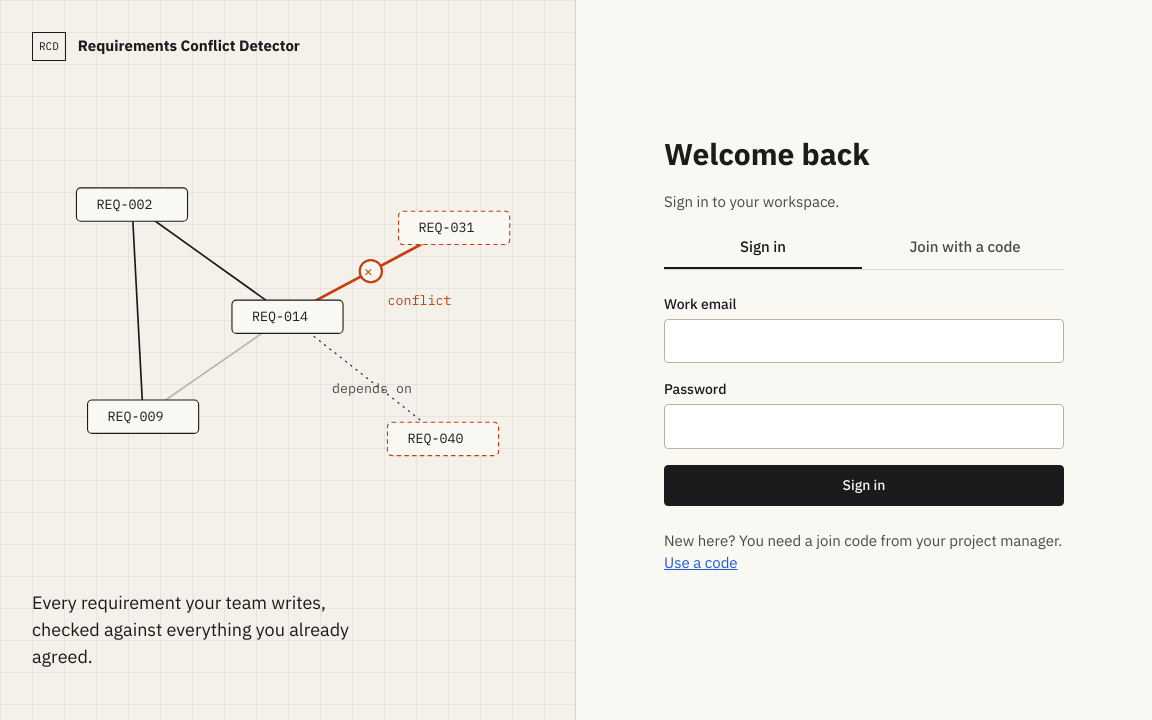
Test case: LoginPage › shows the server's generic message on bad credentials
The width and height of the screenshot is (1152, 720).
Type "x@y.z" into the field labelled "Work email" at point(864, 341), box 664,318 -> 1064,363
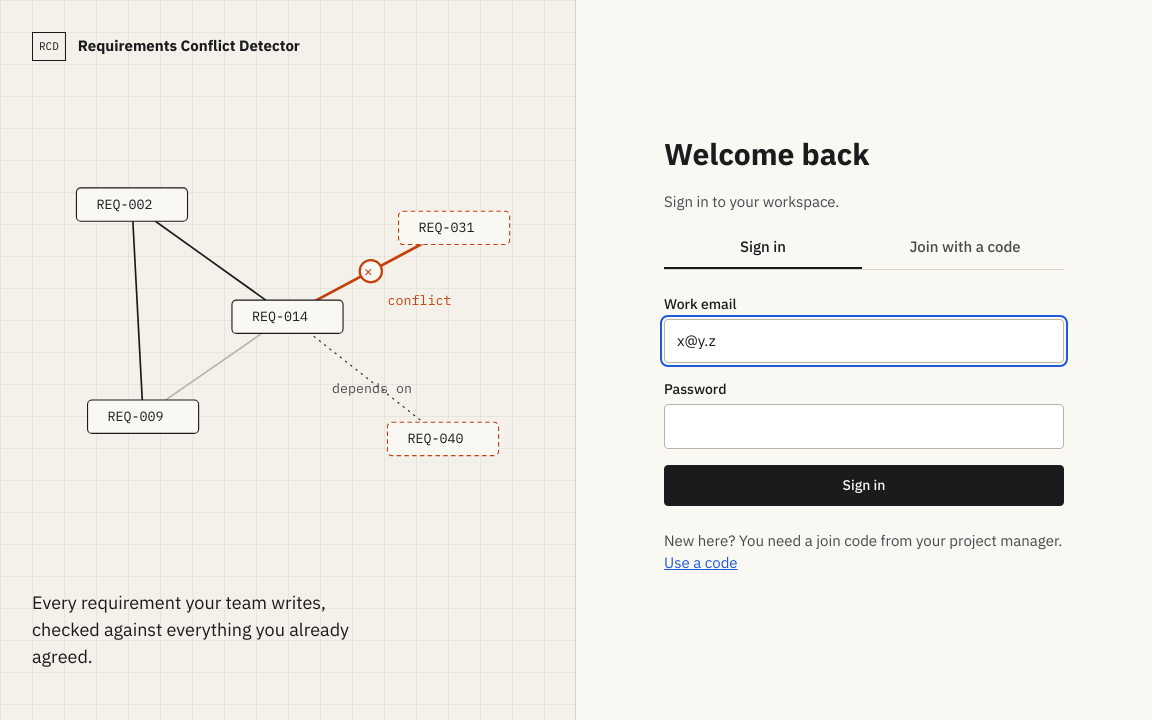
Type "nope" into the password field labelled "Password" at point(864, 426), box 664,404 -> 1064,448
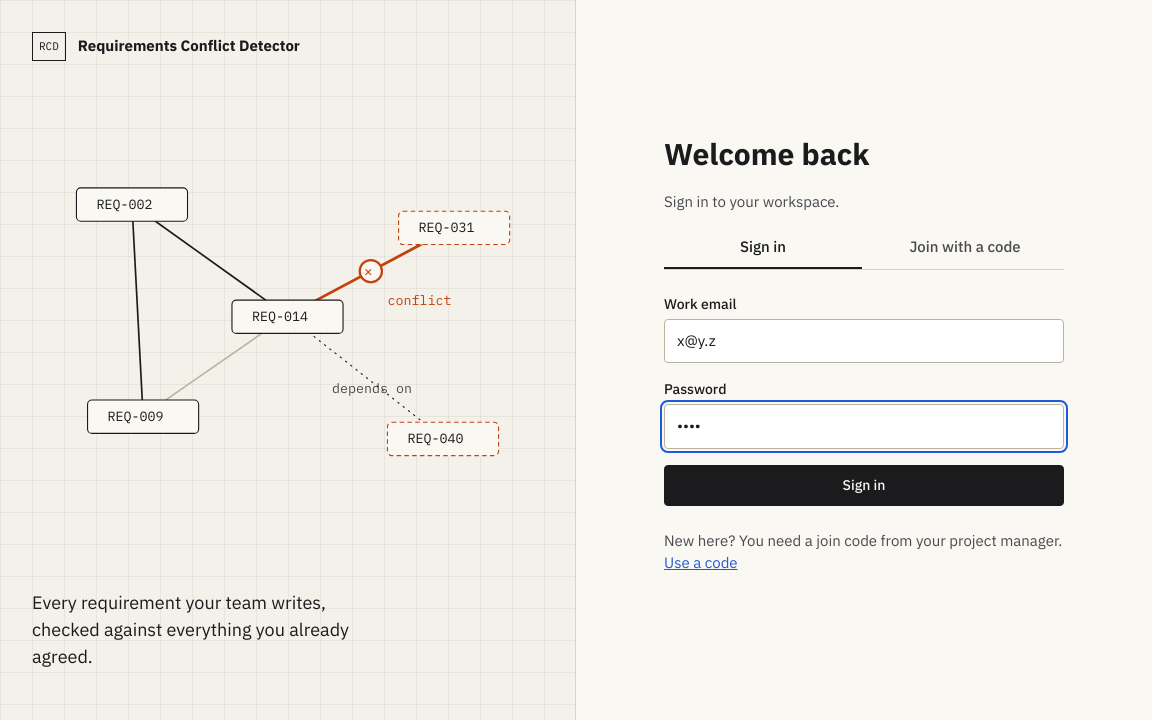
Click the button "Sign in" at point(864, 485), box 664,464 -> 1064,506
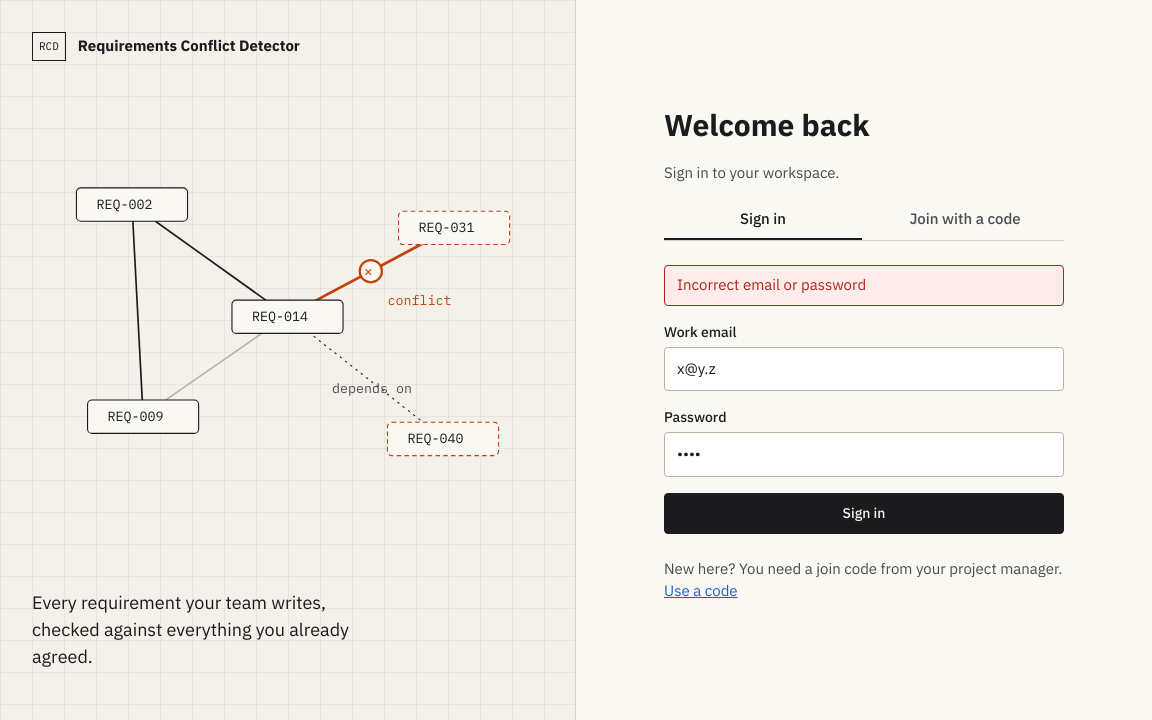
Now the message reads "Incorrect email or password", box 677,275 -> 866,294
